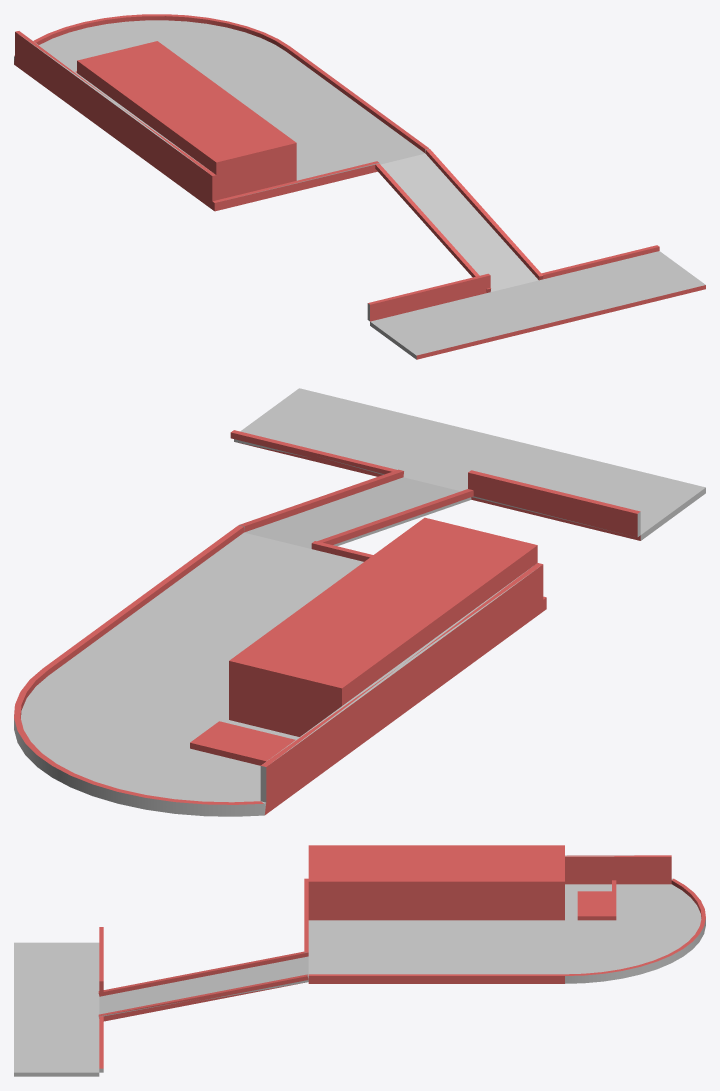
File: Driveway.dae
3 renders of one model, top to bottom at view 1: azimuth 30°, elevation 25°; view 2: azimuth 150°, elevation 25°; view 3: azimuth 270°, elevation 25°, orthographic. The views are drawn at different scales.
Visible parts, largest first — view 1: Body1; view 2: Body1; view 3: Body1.
Part boxes in pixels (box(x1,y1,x2,y2)): Body1: box(14, 14, 705, 359); Body1: box(14, 388, 705, 816); Body1: box(14, 845, 705, 1076).
Size of the model in its own units: 25.3 by 49.35 by 6.52.
